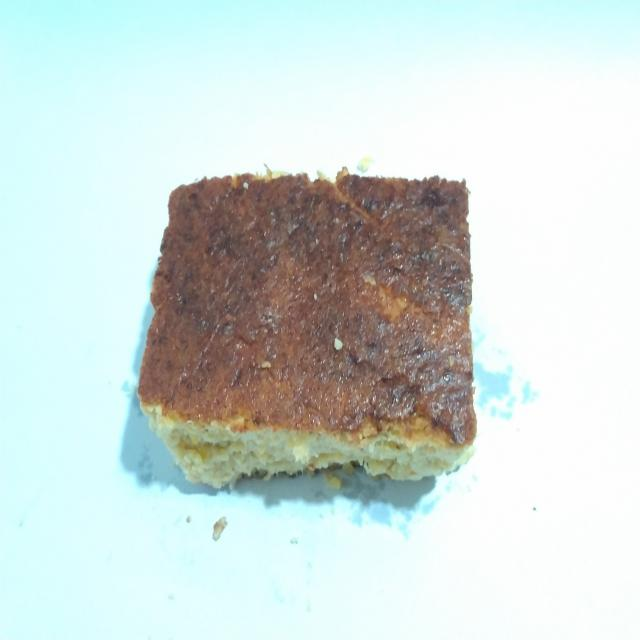Food: (136, 147, 485, 514)
